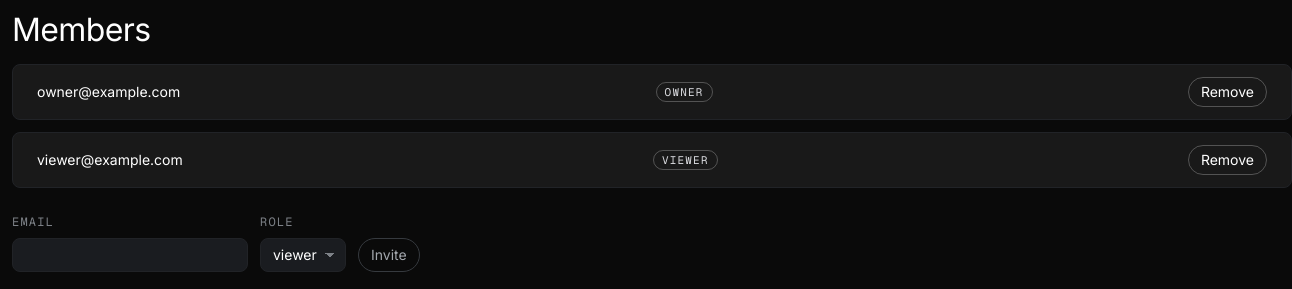
Test: MembersTab › lets an owner remove a member
This screenshot has width=1292, height=289.
Expected: the text "viewer@example.com" is shown, top-left (37, 150), bottom-right (183, 170)
Click the button "Remove" in the row of "viewer@example.com". click: (1227, 160)
box: top-left (1188, 145), bottom-right (1267, 175)
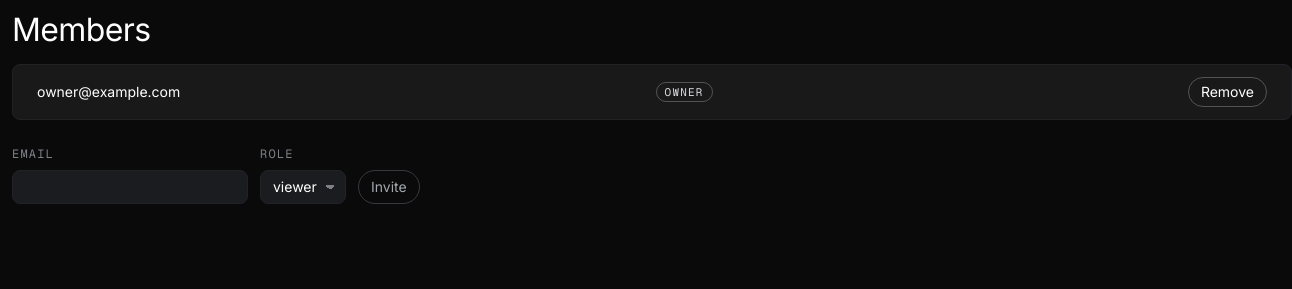
Now the text "viewer@example.com" is gone
